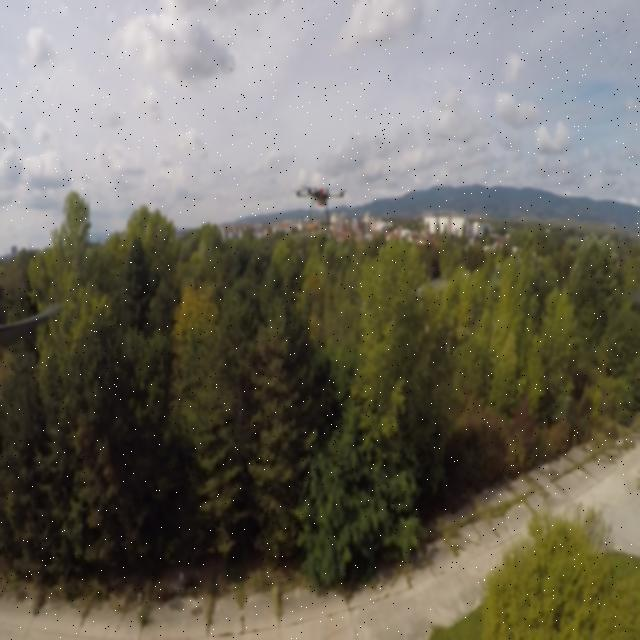UAV: (288, 177, 357, 220)
